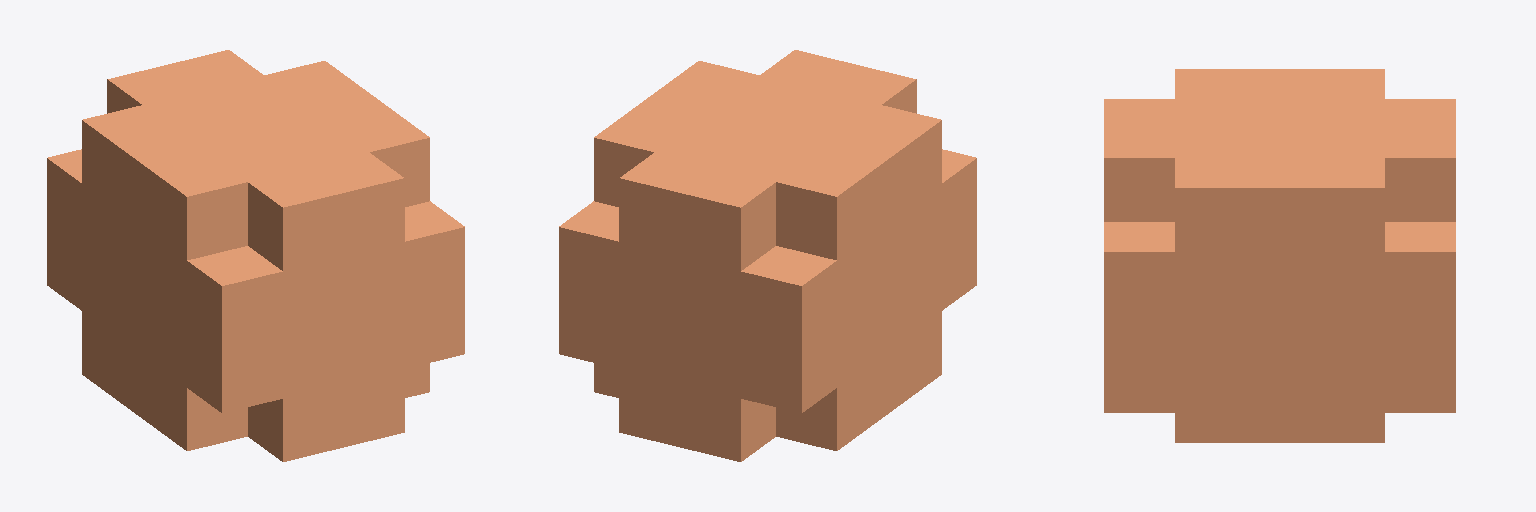
The picture shows the model from 3 angles: view 1: azimuth 30°, elevation 25°; view 2: azimuth 150°, elevation 25°; view 3: azimuth 270°, elevation 25°; orthographic projection.
Bounding box in the file's own units: 4 × 4 × 5.
Materials: 1 (1 with a texture image).